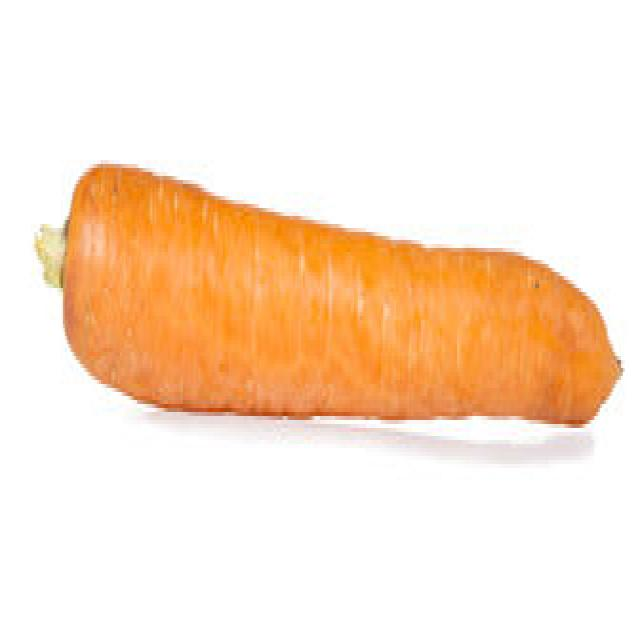Carrot: (61, 170, 626, 446)
